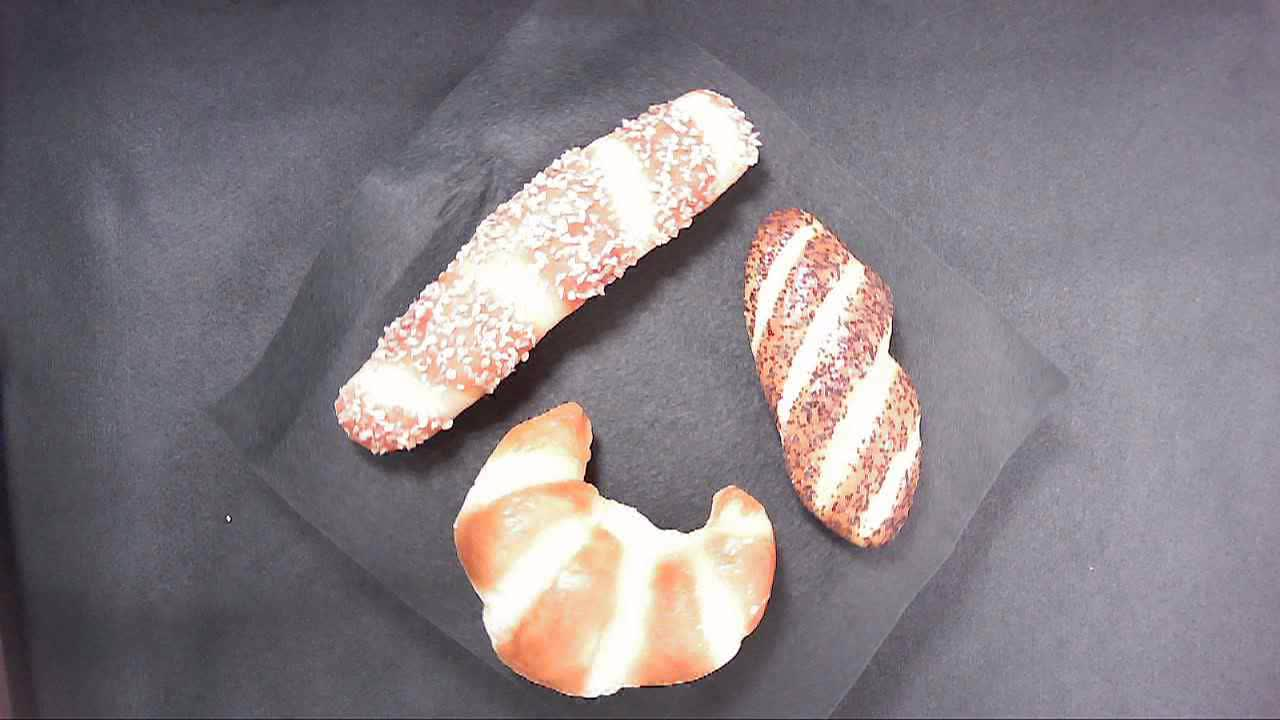cow: (465, 413, 772, 707), (446, 447, 779, 703), (524, 386, 600, 479)
long: (410, 84, 700, 393), (331, 261, 472, 467), (627, 73, 768, 216)
slash: (781, 200, 945, 557), (741, 195, 940, 472)
